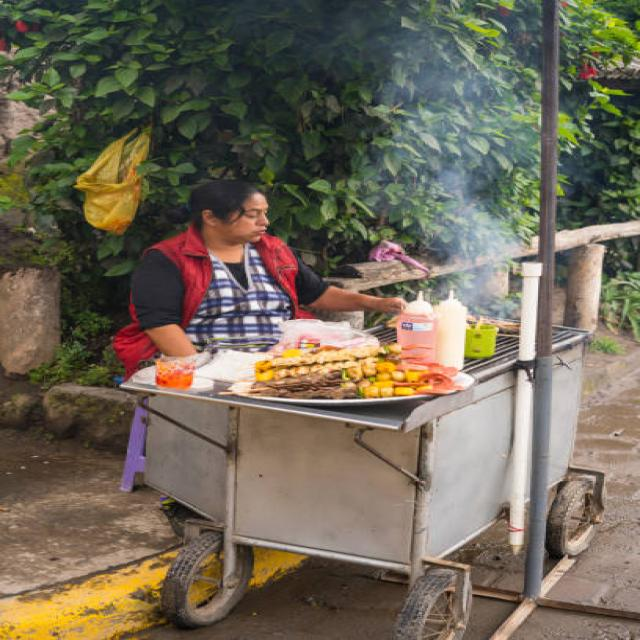Emperan: (119, 173, 638, 640)
